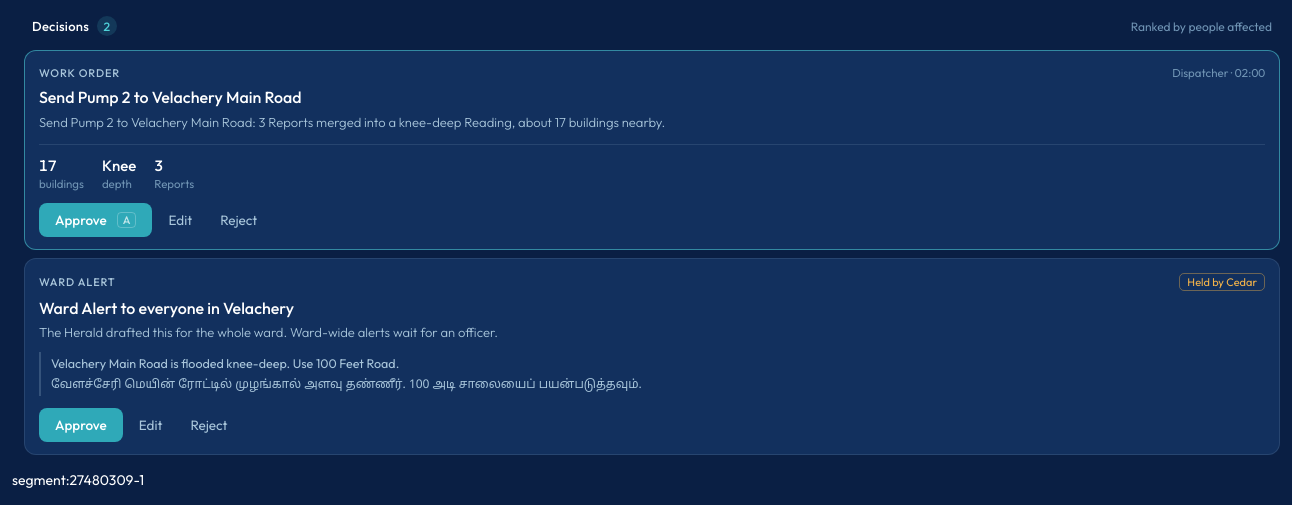
Test: approve shows the confirmation line and drops the count
Expected: the element "Send Pump 2 to Velachery Main Road" is shown, [24, 50, 1280, 250]
Expected: the text "2" is shown, [97, 16, 117, 36]
Click the button "Approve A".
click(96, 220)  # box [39, 203, 152, 237]
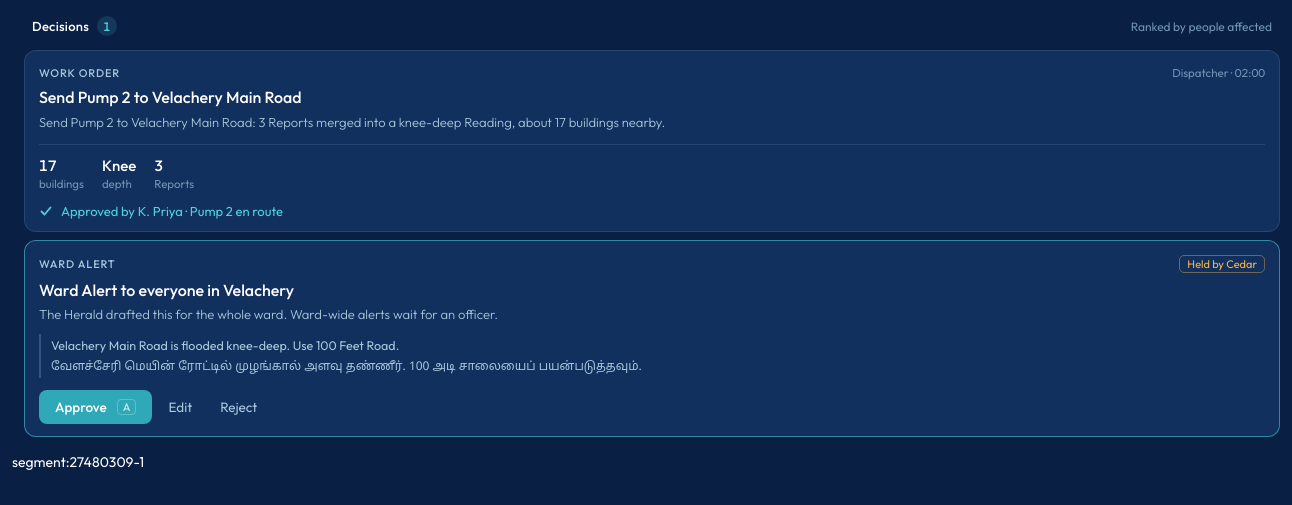
Result: the text "Approved by K. Priya · Pump 2 en route" is shown at [39, 203, 283, 219]
Result: the text "1" is shown at [97, 16, 117, 36]
